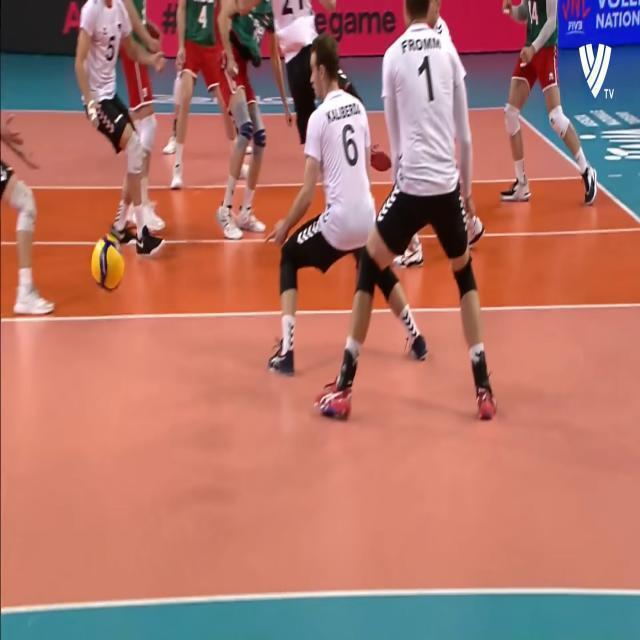volleyball: (91, 233, 124, 292)
